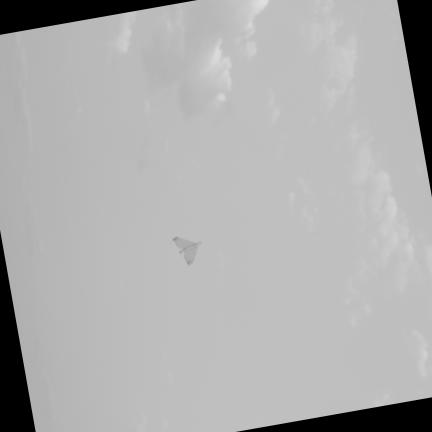Shahed: (172, 238, 201, 265)
